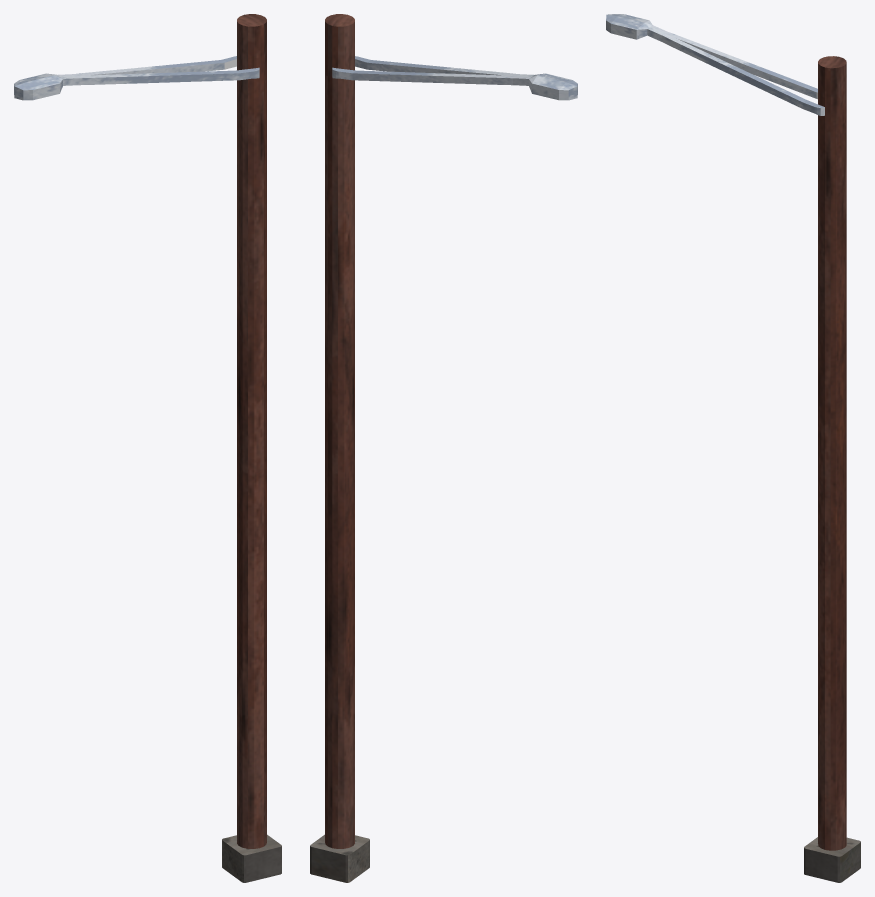
File: Poste.fbx
3 renders of one model, left to right at view 1: azimuth 30°, elevation 25°; view 2: azimuth 150°, elevation 25°; view 3: azimuth 330°, elevation 25°, orthographic. The views are drawn at different scales.
Visible parts, largest first — view 1: Lampara; view 2: Lampara; view 3: Lampara.
Boxes of the visible parts, box(x1,y1,x2,y2) form: Lampara: box(14, 14, 281, 882); Lampara: box(310, 14, 577, 882); Lampara: box(606, 14, 860, 882).
Bounding box in the file's own units: 1.95 × 0.3 × 6.15.
Materials: 4 (3 with a texture image).
